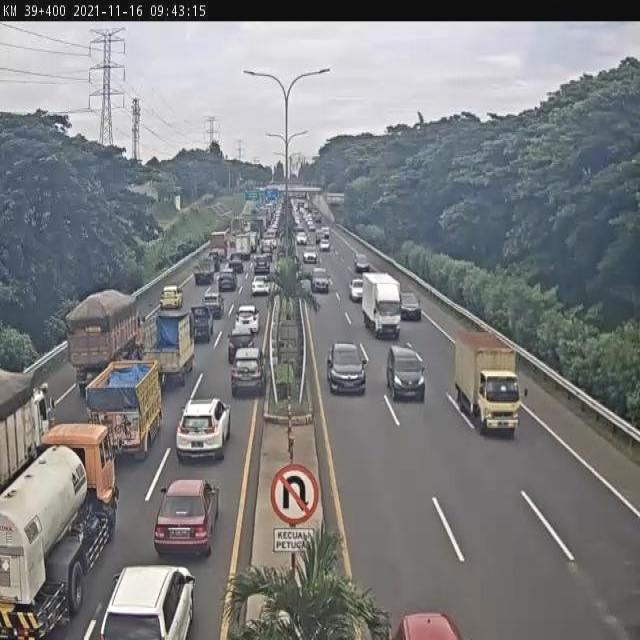Car: (97, 564, 197, 638), (152, 476, 222, 560), (174, 397, 232, 463), (388, 610, 466, 640), (386, 344, 426, 402), (326, 342, 366, 396), (230, 347, 266, 398), (227, 328, 257, 365), (190, 304, 216, 341), (234, 305, 260, 336), (202, 288, 225, 318), (399, 292, 422, 321), (160, 285, 183, 310), (311, 267, 330, 293), (217, 269, 237, 291), (348, 277, 364, 302), (254, 254, 272, 275), (252, 276, 270, 296), (354, 254, 370, 274), (228, 254, 244, 273), (302, 249, 318, 265), (298, 276, 312, 294), (296, 232, 307, 246), (319, 238, 330, 251), (320, 226, 330, 238)
Truck: (0, 419, 120, 640), (63, 289, 142, 398), (454, 324, 528, 435), (85, 360, 162, 462), (0, 367, 52, 510), (42, 422, 115, 510), (142, 308, 196, 390), (361, 272, 402, 340), (210, 230, 230, 260), (193, 258, 216, 284), (235, 232, 254, 260), (250, 217, 264, 242)
